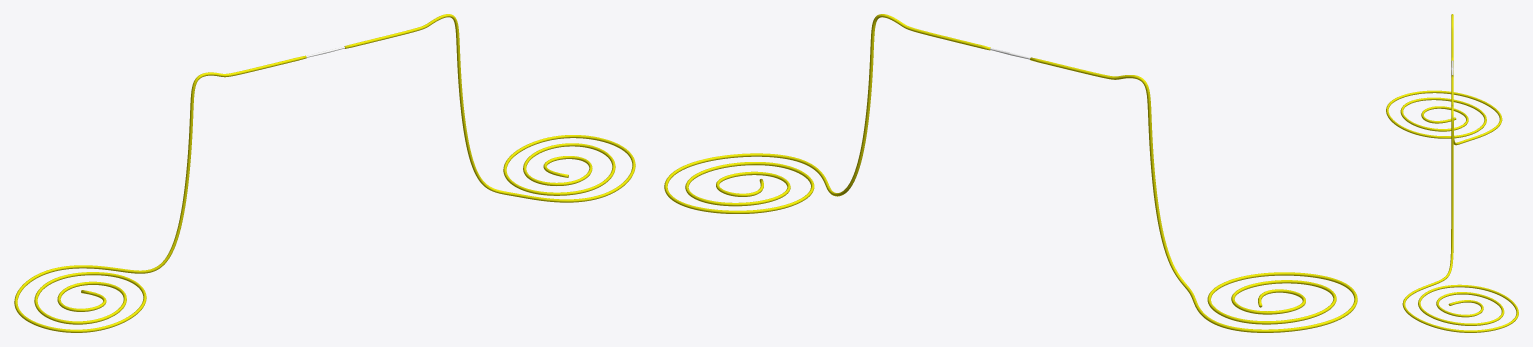
The model's file is kabel tersambung.fbx.
3 renders of one model, left to right at view 1: azimuth 30°, elevation 25°; view 2: azimuth 150°, elevation 25°; view 3: azimuth 270°, elevation 25°, orthographic. The views are drawn at different scales.
Visible parts, largest first — view 1: NurbsPath.003, NurbsPath.002; view 2: NurbsPath.003, NurbsPath.002; view 3: NurbsPath.002, NurbsPath.003.
Boxes of the visible parts, <box> form: NurbsPath.003: <box>14,55,306,332</box>; NurbsPath.002: <box>344,14,635,202</box>; NurbsPath.003: <box>1030,57,1357,332</box>; NurbsPath.002: <box>664,14,990,213</box>; NurbsPath.002: <box>1402,75,1518,332</box>; NurbsPath.003: <box>1386,14,1502,145</box>.
Bounding box in the file's own units: 31.6 × 9.26 × 7.37.
2 materials, 2 textured.
